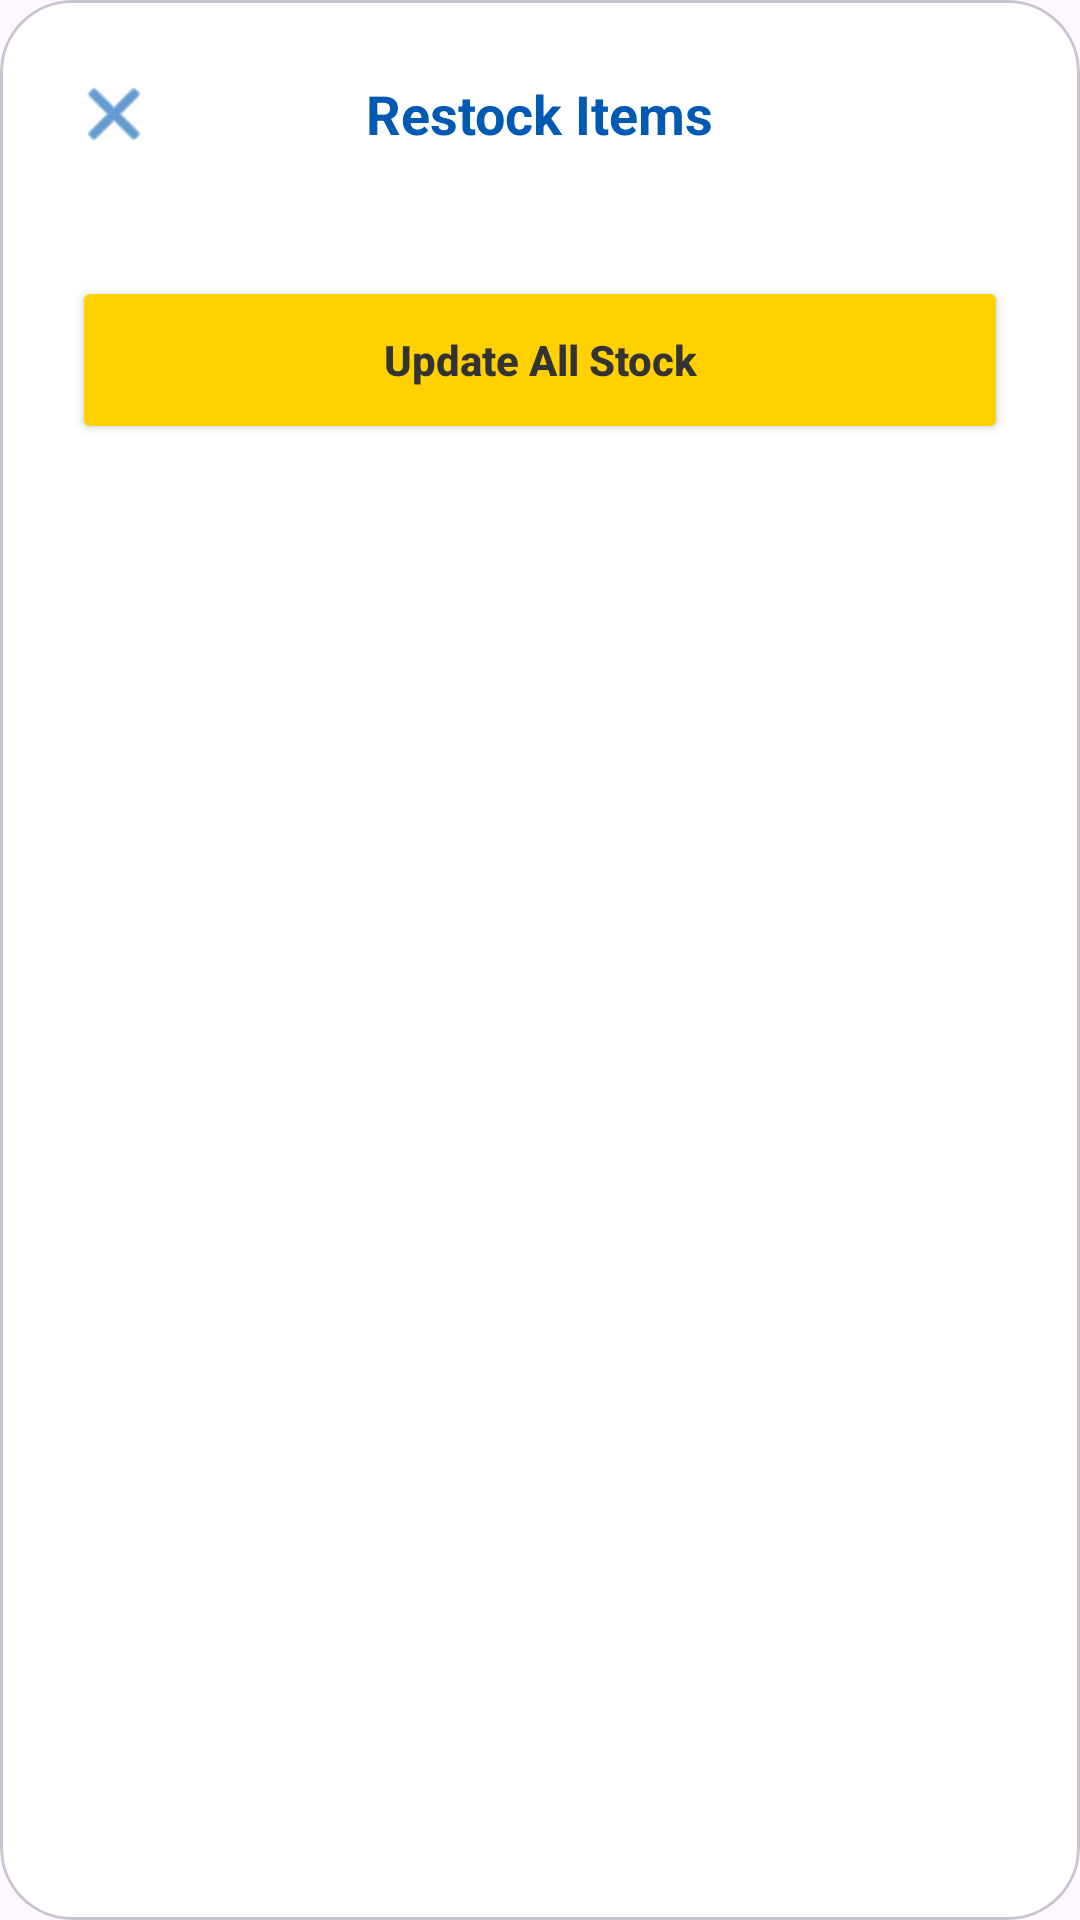

Point at icon controls on the screen. Image size 1080*1920, points as (x,y).
close clear cancel: (114,114)
